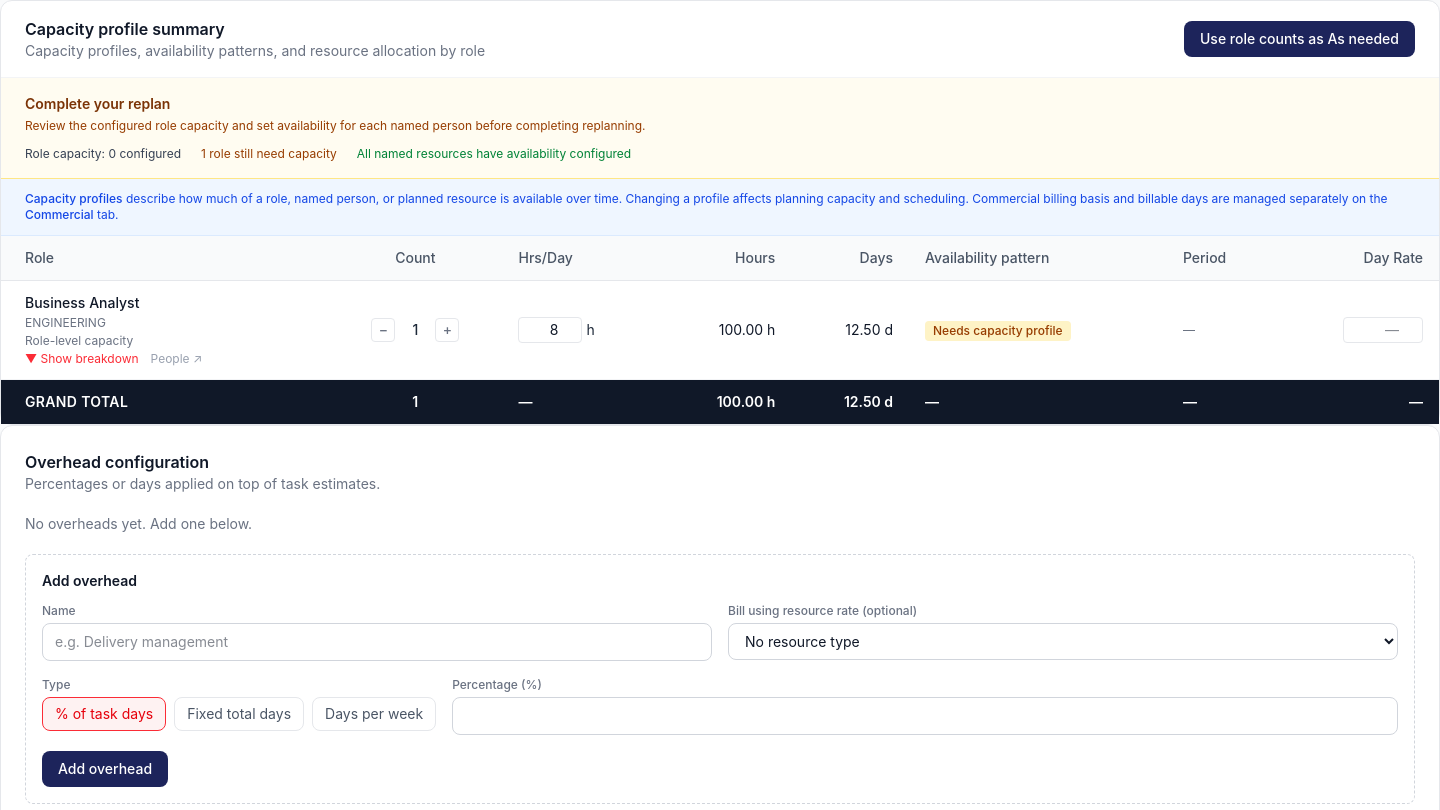
ResourceProfileTab — missing persisted ROLE profiles (issue #456) › opens the existing capacity editor (create path) from the missing marker
Click the button with test id "missing-profile-badge-rt-missing". click: (998,330)
box: [925,320,1071,340]
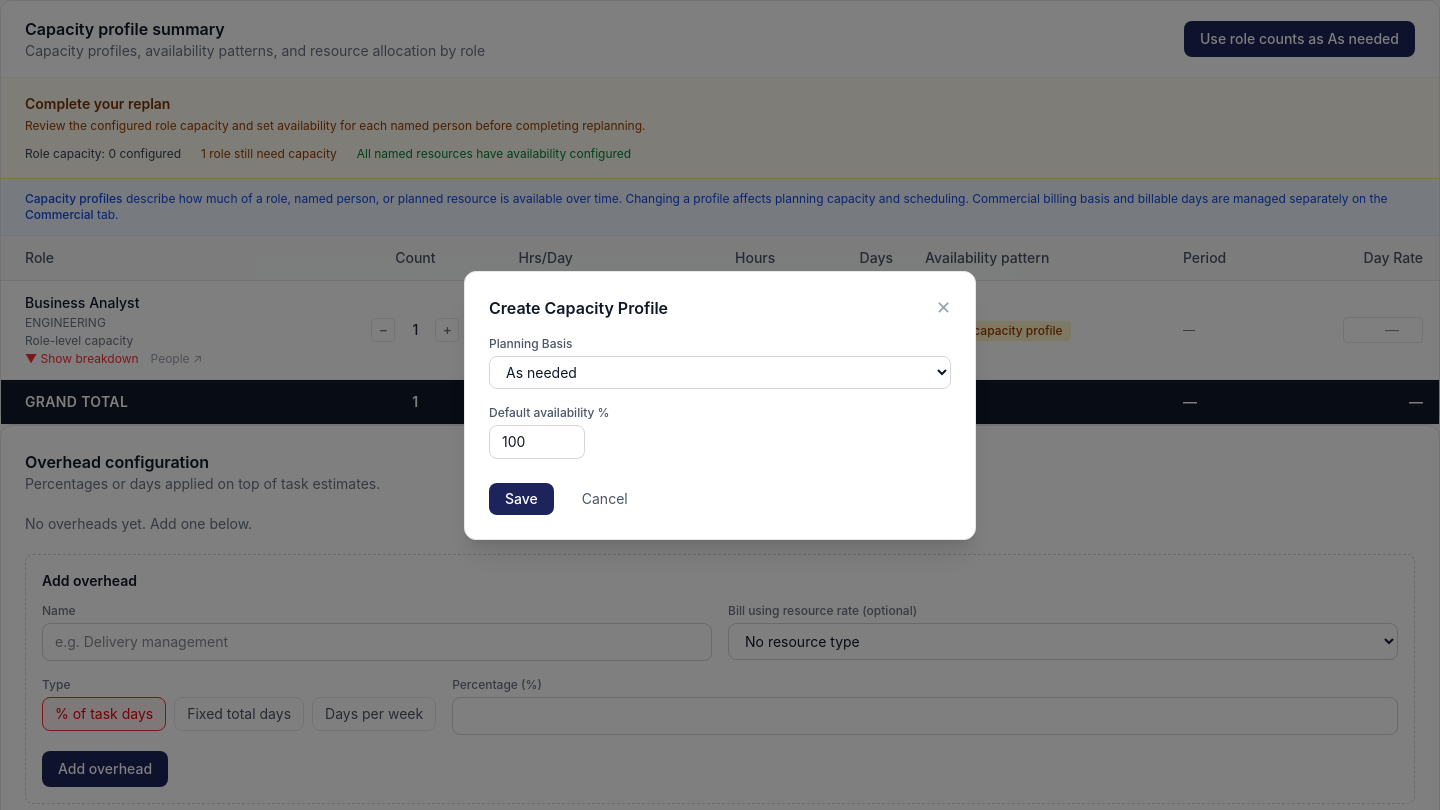
Expected: the dialog named "Edit capacity profile" is shown
Expected: the heading "Create Capacity Profile" is shown, [489,296,668,320]
